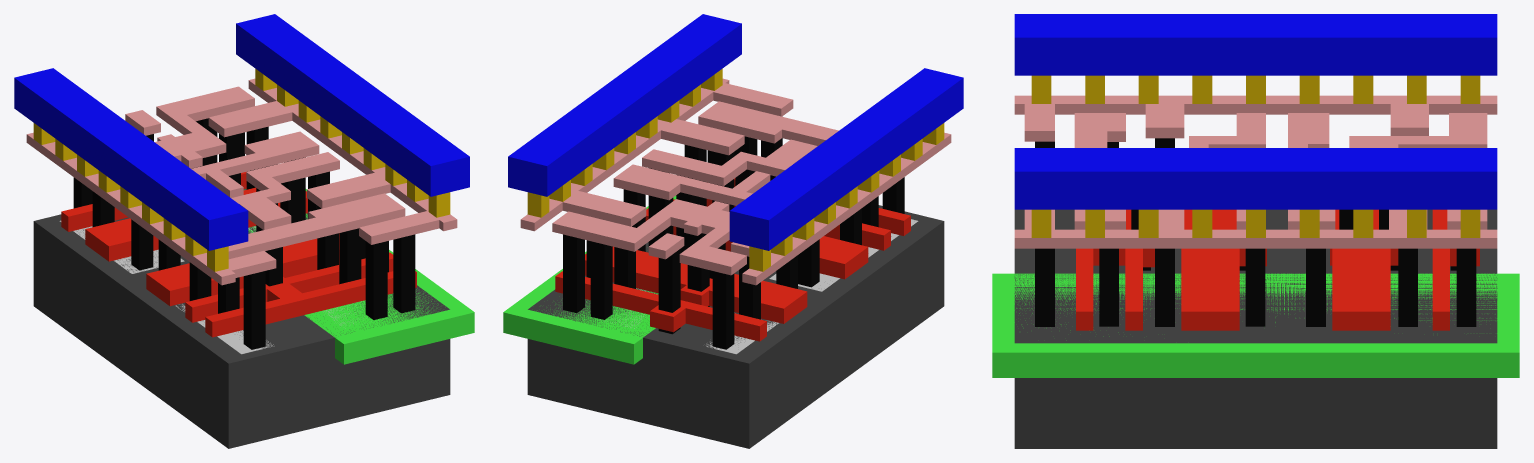
Rendered from sky130_fd_sc_hd__clkdlybuf4s50_2.obj.
3 renders of one model, left to right at view 1: azimuth 30°, elevation 25°; view 2: azimuth 150°, elevation 25°; view 3: azimuth 270°, elevation 25°, orthographic. The views are drawn at different scales.
Parts seen in each view (by area): view 1: subs, metal1, li, licon, poly, nwell, mcon, diff; view 2: subs, metal1, li, licon, poly, nwell, mcon, diff; view 3: metal1, subs, li, nwell, poly, licon, mcon.
Part boxes in pixels (x1,y1,x2,y2): subs: (33, 189, 450, 448); metal1: (14, 14, 469, 250); li: (26, 78, 457, 285); licon: (73, 118, 415, 349); poly: (61, 171, 416, 337); nwell: (244, 189, 474, 364); mcon: (33, 68, 450, 271); diff: (59, 220, 274, 354); subs: (527, 205, 944, 448); metal1: (508, 14, 963, 250); li: (520, 78, 951, 285); licon: (563, 136, 904, 349); poly: (555, 178, 910, 341); nwell: (503, 195, 676, 364); mcon: (527, 68, 944, 271); diff: (706, 219, 918, 354); metal1: (1014, 14, 1497, 209); subs: (1014, 209, 1497, 448); li: (1014, 95, 1497, 248); nwell: (992, 273, 1519, 377); poly: (1076, 209, 1479, 330); licon: (1035, 138, 1476, 326); mcon: (1031, 75, 1480, 237).
Size of the model in its own units: 3.2 by 2.74 by 4.52.
